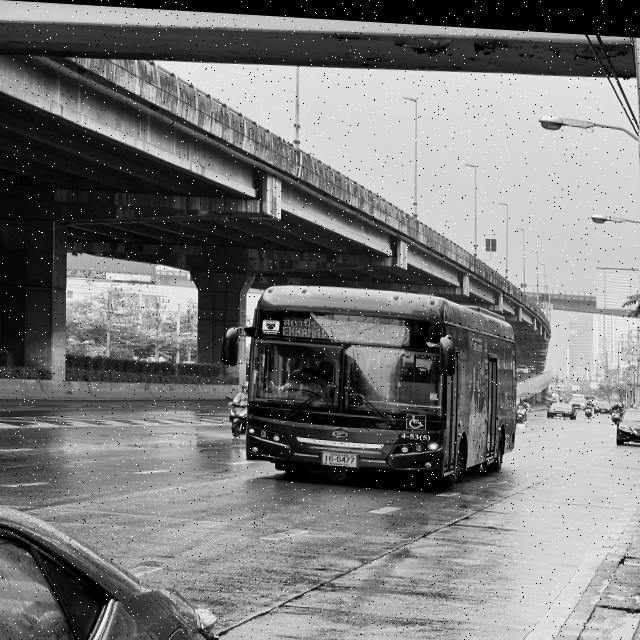Bus-Line-Number: (377, 315, 416, 345)
Destination-Sign-Normal: (278, 311, 373, 341)
TSB-Bus: (239, 278, 519, 485)
